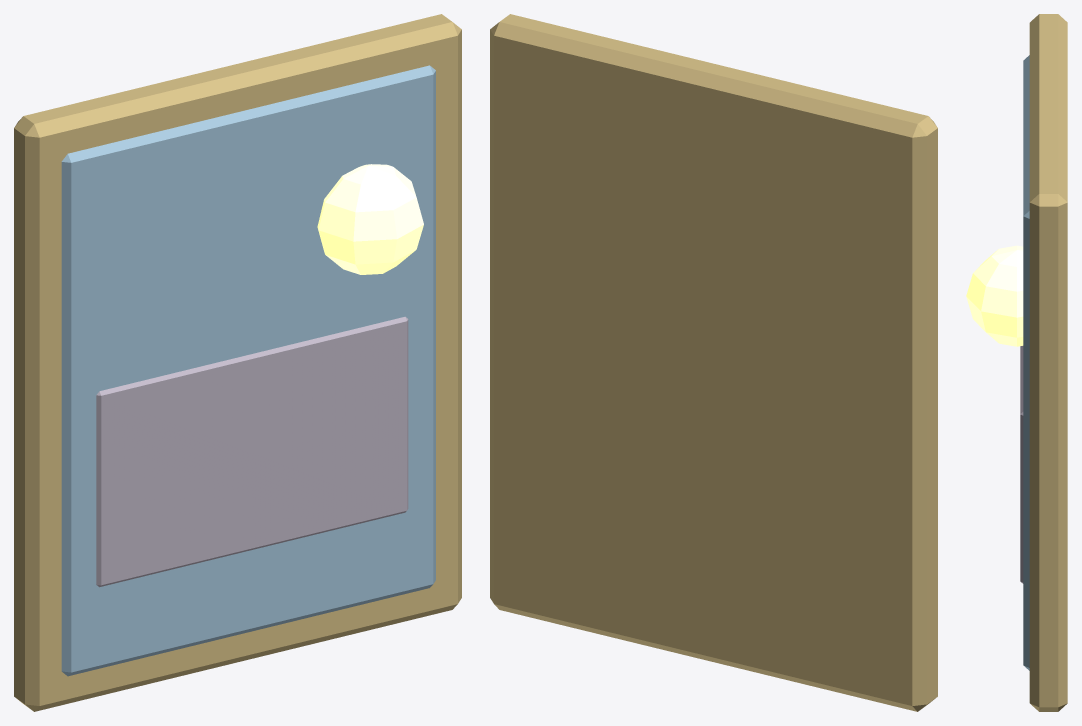
File: th_gemaelde.glb
3 renders of one model, left to right at view 1: azimuth 30°, elevation 25°; view 2: azimuth 150°, elevation 25°; view 3: azimuth 270°, elevation 25°, orthographic. The views are drawn at different scales.
Visible parts, largest first — view 1: gemaelde; view 2: gemaelde; view 3: gemaelde.
Part boxes in pixels (x1,y1,x2,y2): gemaelde: (14,14,461,711); gemaelde: (490,14,937,711); gemaelde: (966,14,1067,711).
Bounding box in the file's own units: 0.7 × 0.9 × 0.16.
